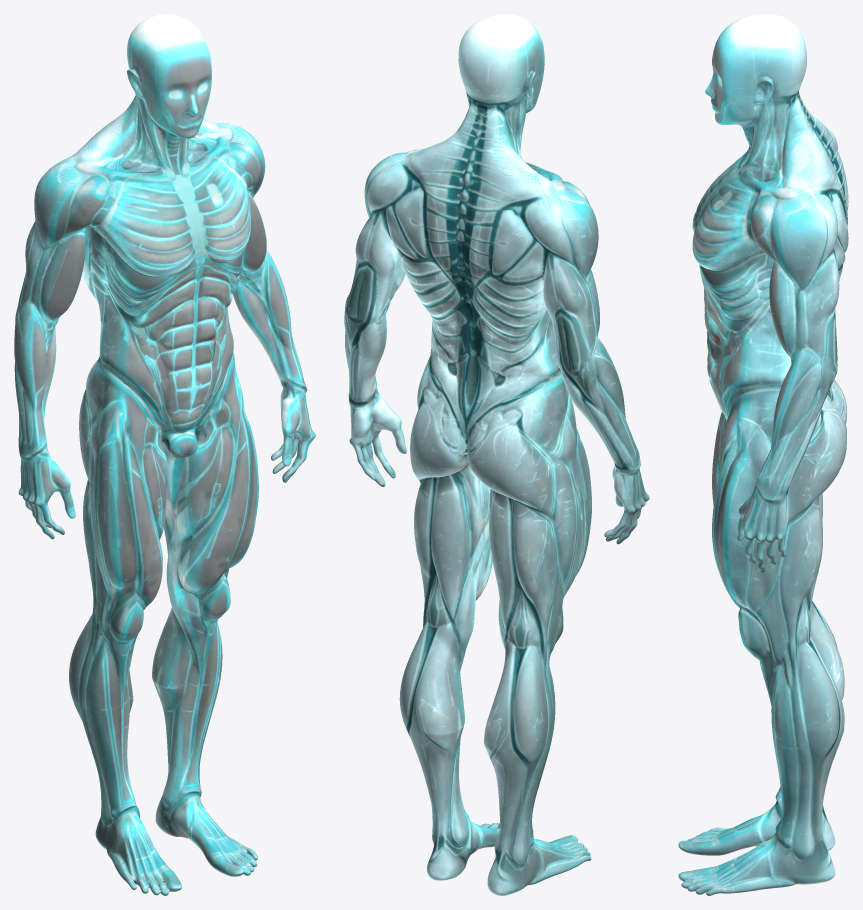
File: Meshy_AI_Neon_Anatomy_0710151258_texture.glb
3 views of the same model, side by side, from view 1: azimuth 30°, elevation 25°; view 2: azimuth 150°, elevation 25°; view 3: azimuth 270°, elevation 25° (orthographic).
Bounding box in the file's own units: 0.6717 × 1.9 × 0.3442.
1 material, 1 textured.
